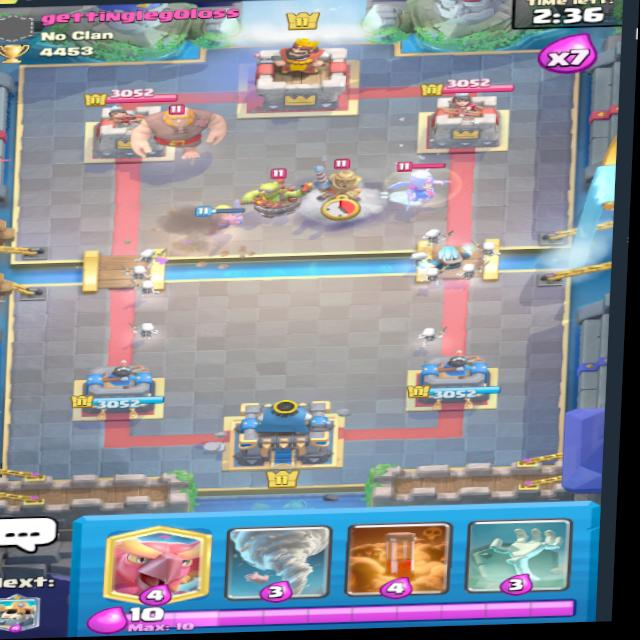battle-healer: (382, 161, 459, 210)
giant: (133, 98, 231, 159)
goblin-demolisher: (243, 169, 309, 219)
prince: (307, 158, 374, 216)
